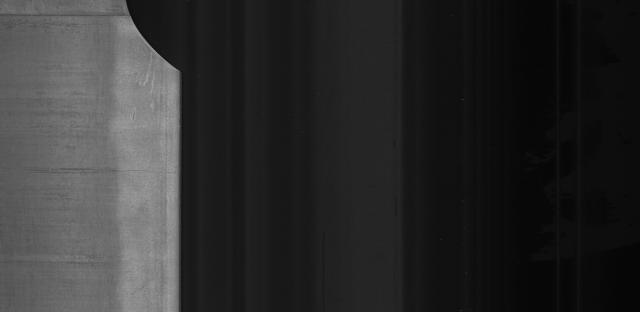welding_line: (4, 5, 140, 21)
